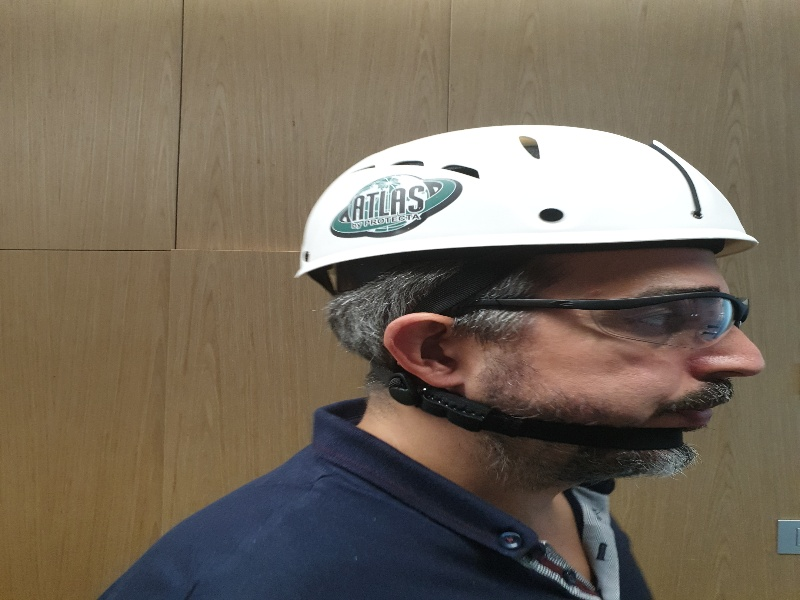Baret: (297, 126, 763, 286)
Gozluk: (452, 289, 752, 355)
